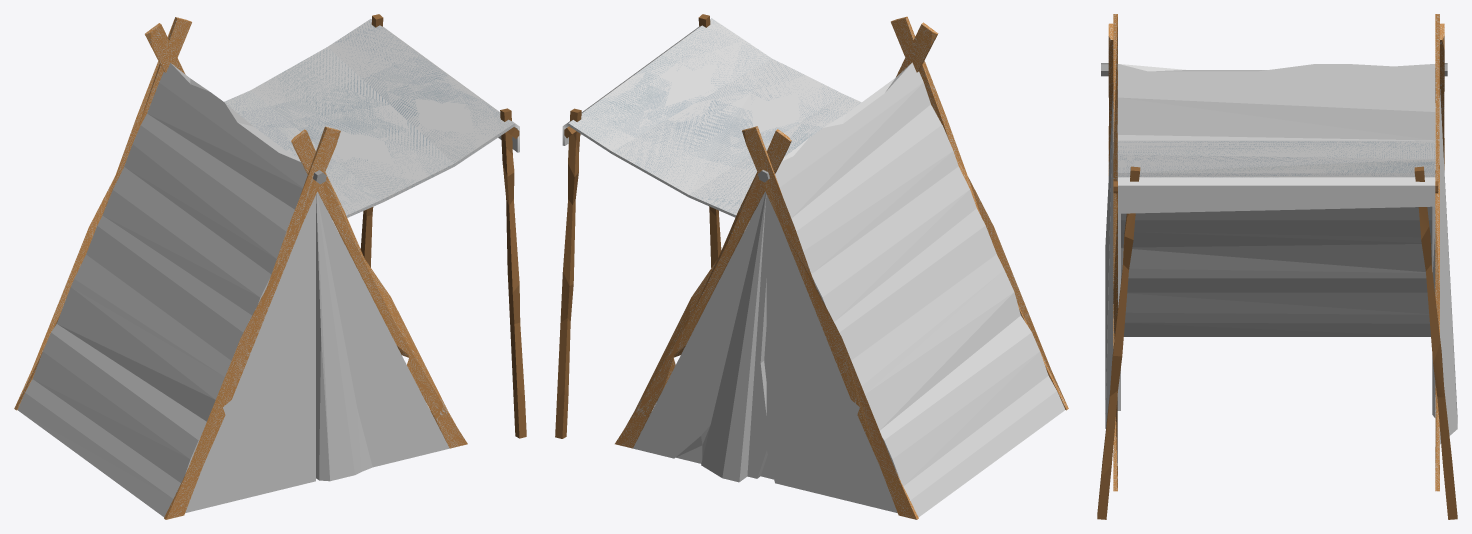
File: Camp.fbx
3 renders of one model, left to right at view 1: azimuth 30°, elevation 25°; view 2: azimuth 150°, elevation 25°; view 3: azimuth 270°, elevation 25°, orthographic. The views are drawn at different scales.
Visible parts, largest first — view 1: Group4, Group3, Group7, Stolb_Palatka2_3, Stolb_Palatka2_4, Stolb_Palatka1, Stolb_Palatka2_2, Stolb_Palatka2_1, Stolb_Palatka2; view 2: Group4, Group3, Group7, Stolb_Palatka2_2, Stolb_Palatka2_1, Stolb_Palatka2, Stolb_Palatka2_3, Stolb_Palatka2_4, Stolb_Palatka1; view 3: Group5, Group3, Group7, Stolb_Palatka2, Stolb_Palatka1, Stolb_Palatka2_1, Stolb_Palatka2_4, Stolb_Palatka2_3, Stolb_Palatka2_2.
Part boxes in pixels (<box>): Group4: <box>17,82,302,517</box>; Group3: <box>159,63,449,513</box>; Group7: <box>224,19,519,217</box>; Stolb_Palatka2_3: <box>164,126,340,519</box>; Stolb_Palatka2_4: <box>291,129,467,448</box>; Stolb_Palatka1: <box>500,108,526,438</box>; Stolb_Palatka2_2: <box>14,17,191,410</box>; Stolb_Palatka2_1: <box>144,23,185,74</box>; Stolb_Palatka2: <box>360,14,383,267</box>; Group4: <box>780,82,1065,517</box>; Group3: <box>633,62,947,512</box>; Group7: <box>562,18,861,217</box>; Stolb_Palatka2_2: <box>742,126,918,519</box>; Stolb_Palatka2_1: <box>615,129,791,448</box>; Stolb_Palatka2: <box>555,108,581,438</box>; Stolb_Palatka2_3: <box>891,16,1068,410</box>; Stolb_Palatka2_4: <box>896,22,938,76</box>; Stolb_Palatka1: <box>698,14,721,267</box>; Group5: <box>1117,89,1435,336</box>; Group3: <box>1105,64,1457,464</box>; Group7: <box>1118,140,1435,213</box>; Stolb_Palatka2: <box>1414,166,1457,519</box>; Stolb_Palatka1: <box>1097,166,1140,519</box>; Stolb_Palatka2_1: <box>1435,14,1439,491</box>; Stolb_Palatka2_4: <box>1113,14,1117,491</box>; Stolb_Palatka2_3: <box>1108,23,1113,175</box>; Stolb_Palatka2_2: <box>1440,23,1444,169</box>.
Size of the model in its own units: 2945 by 2774 by 2318.
